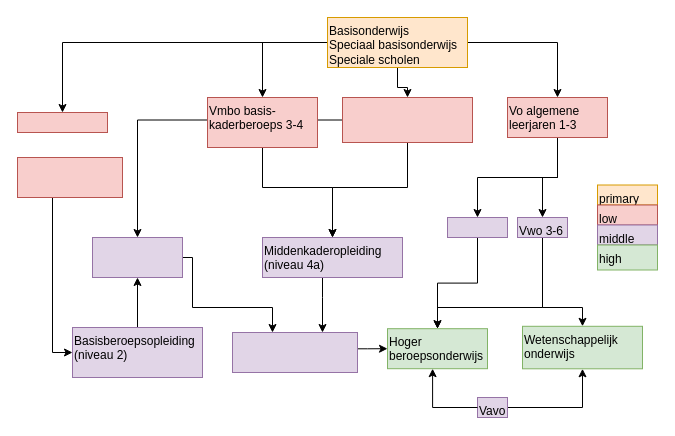
Some shapes in this 675 by 436 pixel diagram are drawn without their labels. The box of each missing label's shape, as (x1, y1, x2, y2) in pixels:
Assistentopleiding (niveau 1): (16, 156, 122, 198)
Havo 3-5: (446, 216, 508, 238)
Praktijkonderwijs: (16, 112, 108, 132)
Specialistenopleiding (niveau 4b): (232, 332, 358, 372)
Vakopleiding (niveau 3): (92, 236, 182, 278)
Vmbo theoretische-gemengde leerweg 3-4: (342, 96, 472, 142)
